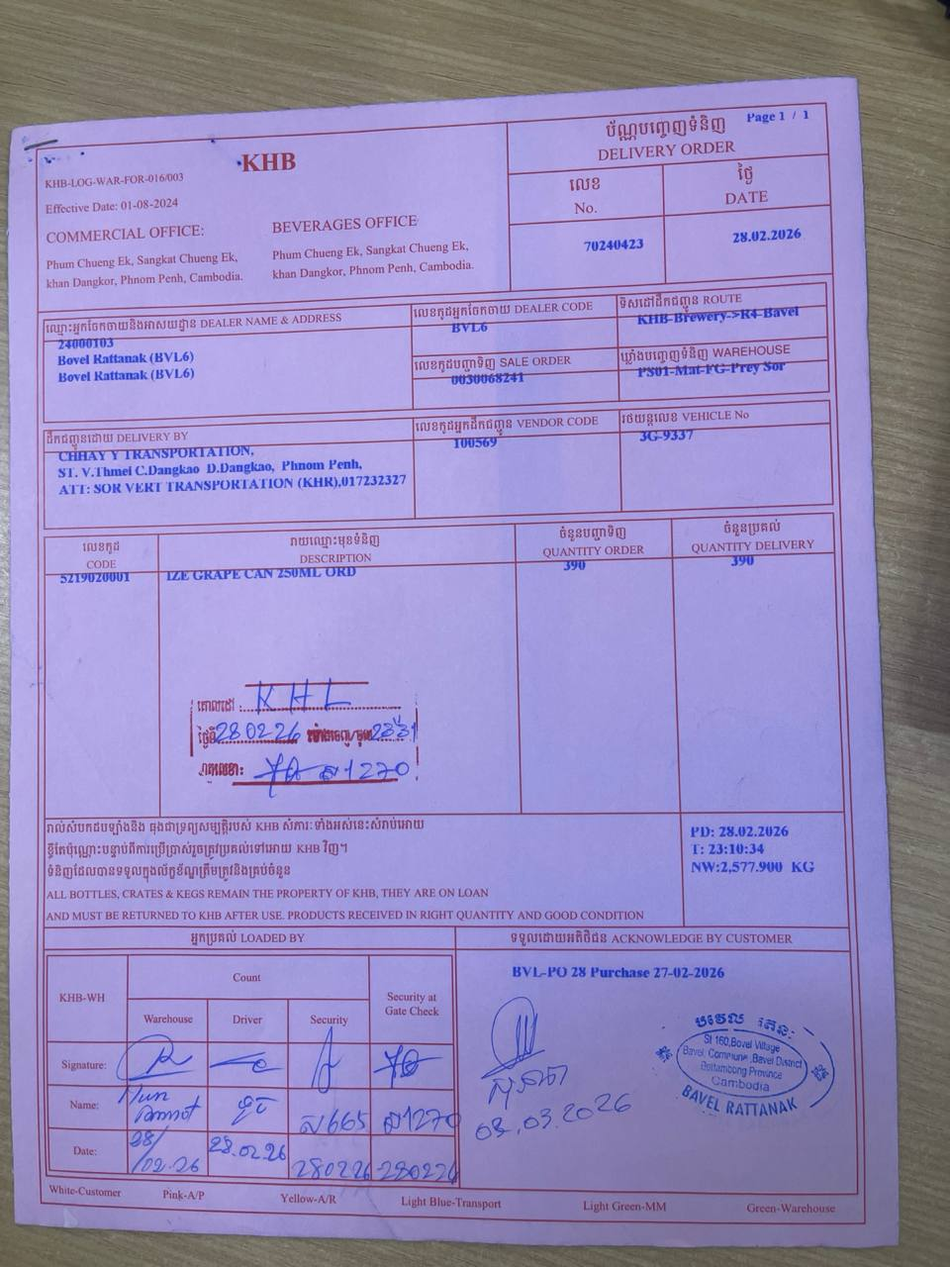Dealer Code: (406, 294, 620, 352)
Invoice Date: (663, 207, 832, 283)
Invoice No: (506, 218, 666, 289)
Sale Order: (404, 347, 620, 407)
Vehicle Code: (620, 404, 841, 514)
Vender Code: (411, 407, 622, 522)
